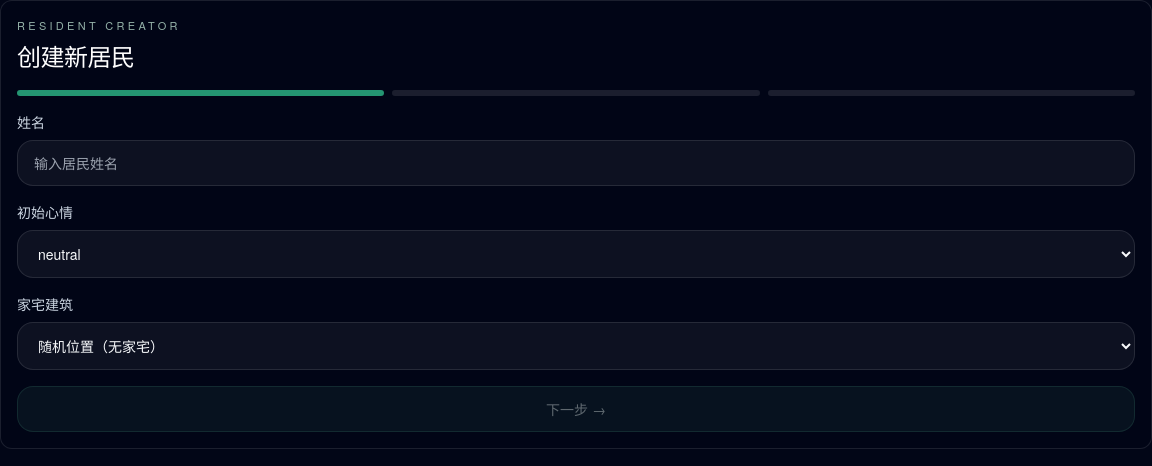
Scenario: ResidentCreationWizard › back button on step 2 returns to step 1
Type "TestName" into the field with placeholder "输入居民姓名" at (576, 162), box [17,140,1135,186]
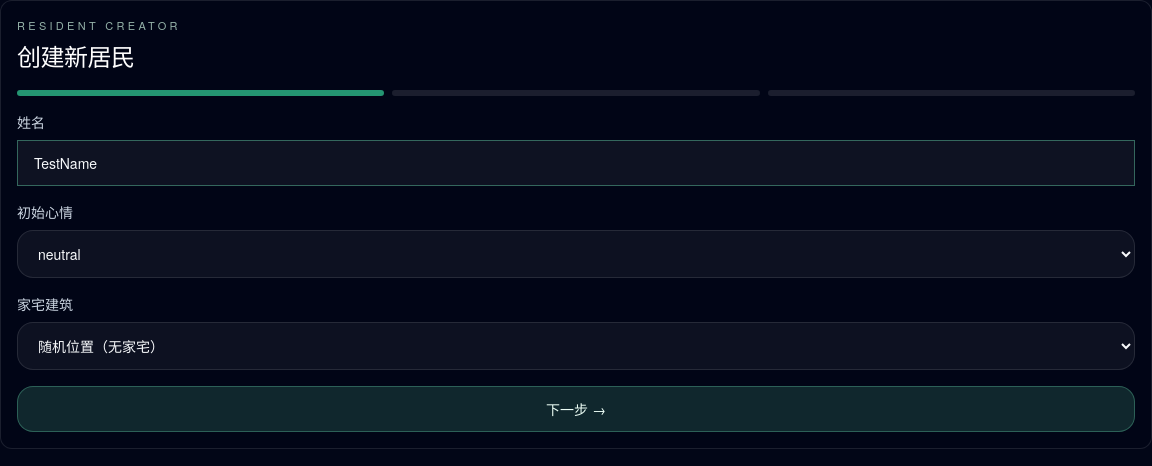
Click the button "下一步 →" at (576, 408), box [17,386,1135,432]
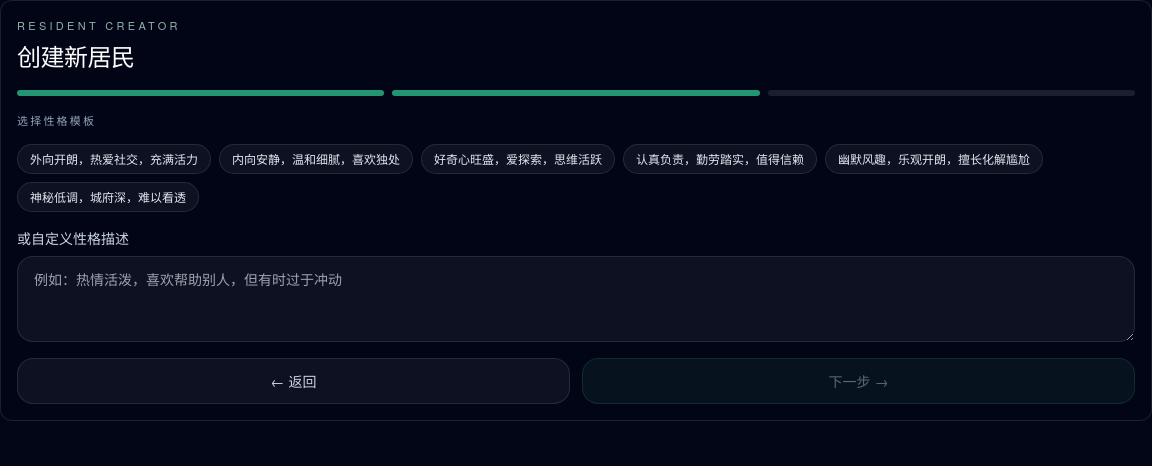
Click the button "← 返回" at (294, 381), box [17,358,570,404]
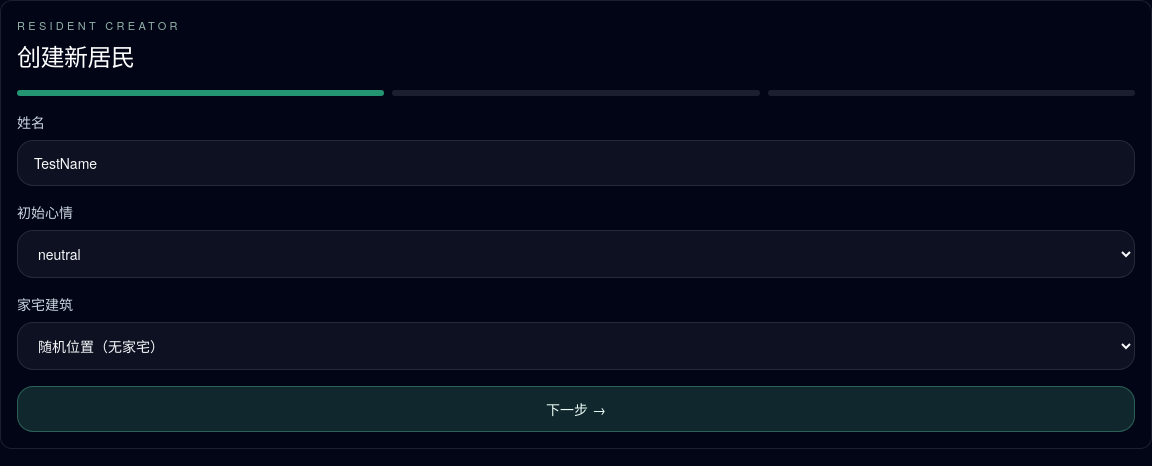
Expected: the field with placeholder "输入居民姓名" is shown, [17,140,1135,186]
